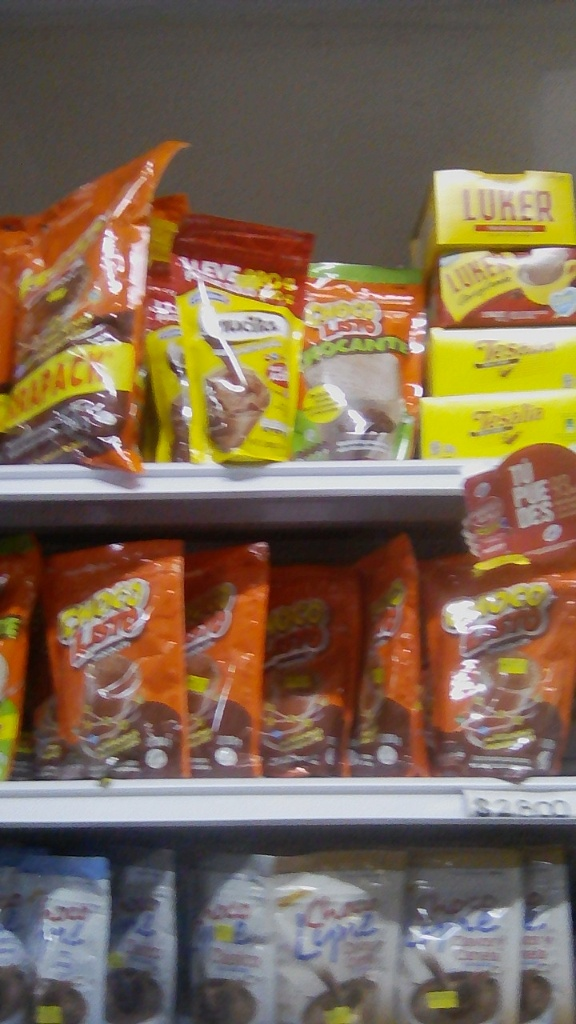COL0170102DYP25000: (302, 256, 433, 462)
COL0170103DYP20000: (426, 551, 572, 779)
COL0170103DYP40000: (0, 159, 167, 484)
